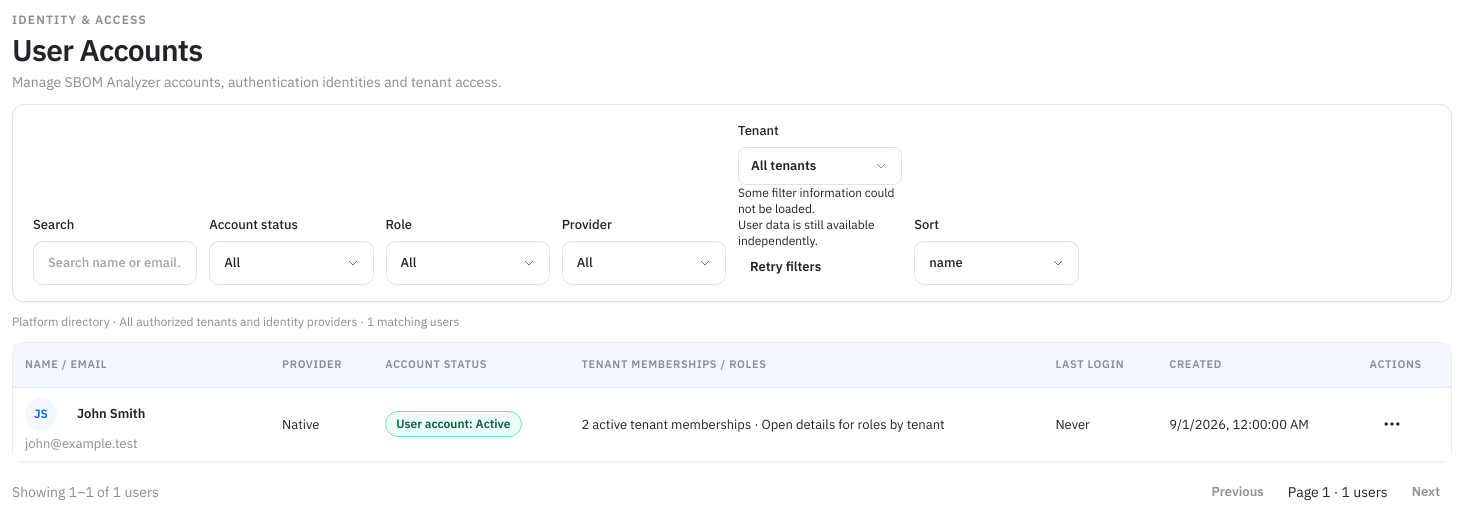
Test: keeps users visible and retries metadata independently
Expected: the message shows "Some filter information could not be loaded.", [738,184,895,216]
Expected: the button "John Smith" is shown, [65,396,157,432]
Click the button "Retry filters". click: (786, 266)
box: [738,248,833,284]
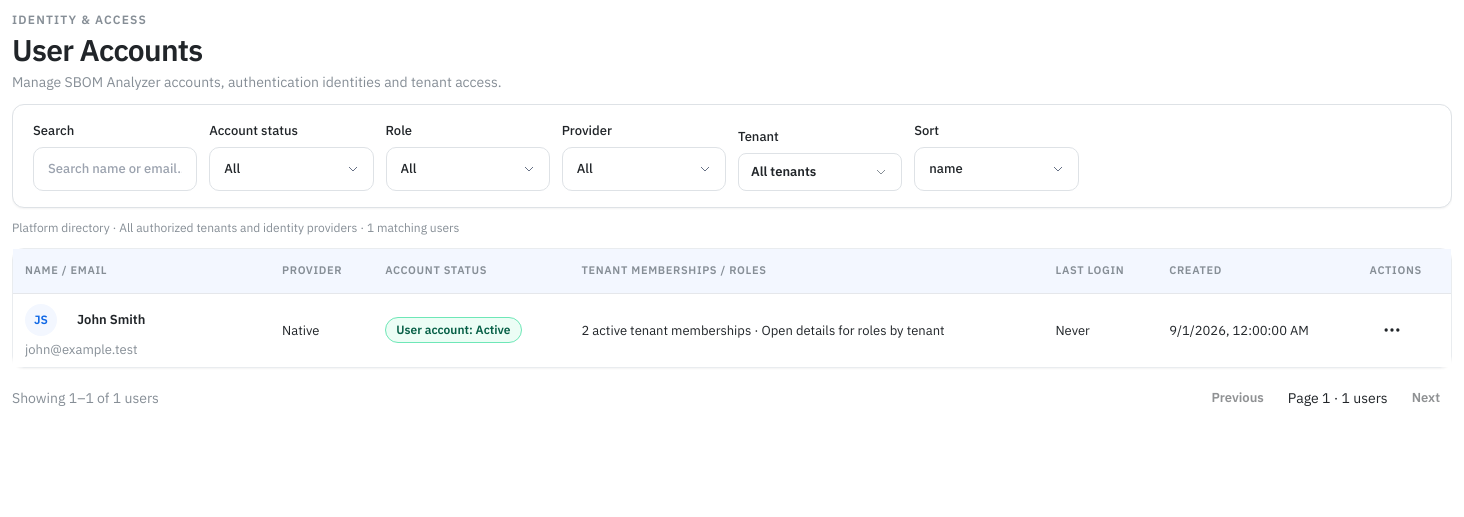
Expected: the message is gone
